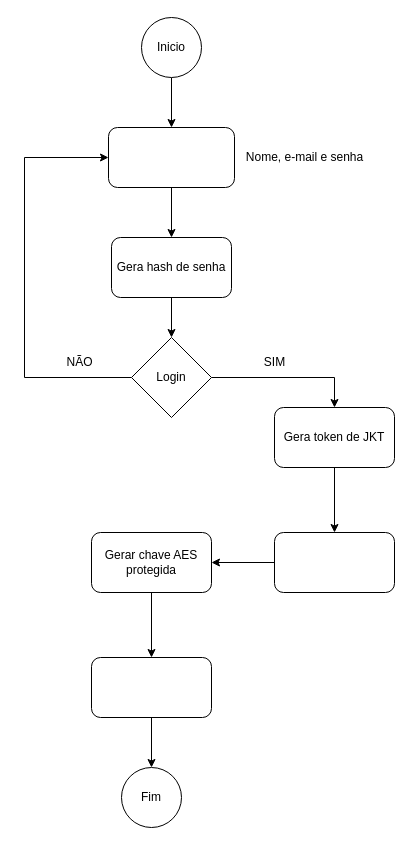
Image size: 412x845. Some labels were removed from this diagram. Each missing label, with the centre of its shape:
"Cadastro de Usuario" belongs at (171,157).
"Envio de mensagem" belongs at (334,562).
"Recebimento de mensagem" belongs at (151,687).
